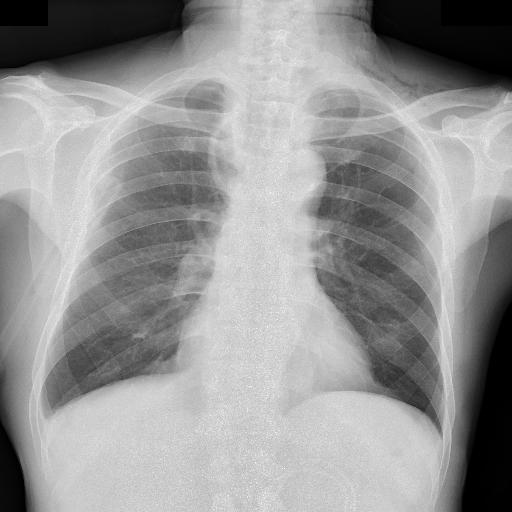Other lesion: (303, 0, 412, 70), (180, 48, 236, 148)
Pleural effusion: (20, 378, 46, 412)
Pleural thickening: (196, 22, 226, 140), (20, 378, 46, 412)
